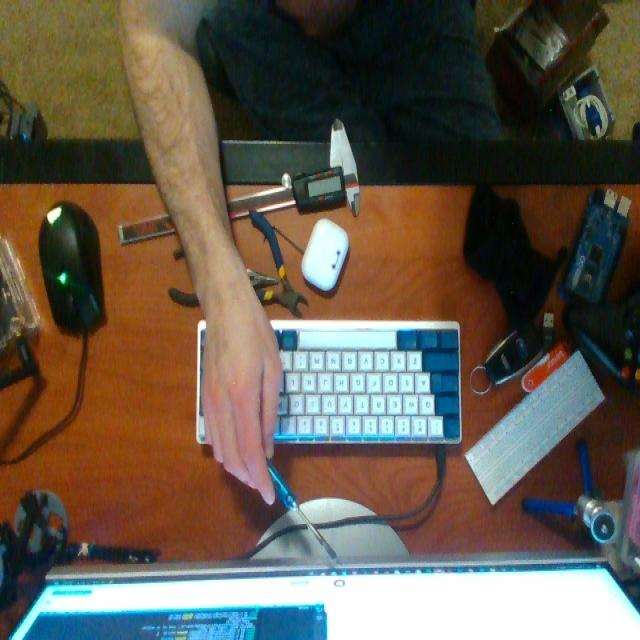keyboard-with-hands: (197, 320, 462, 440)
